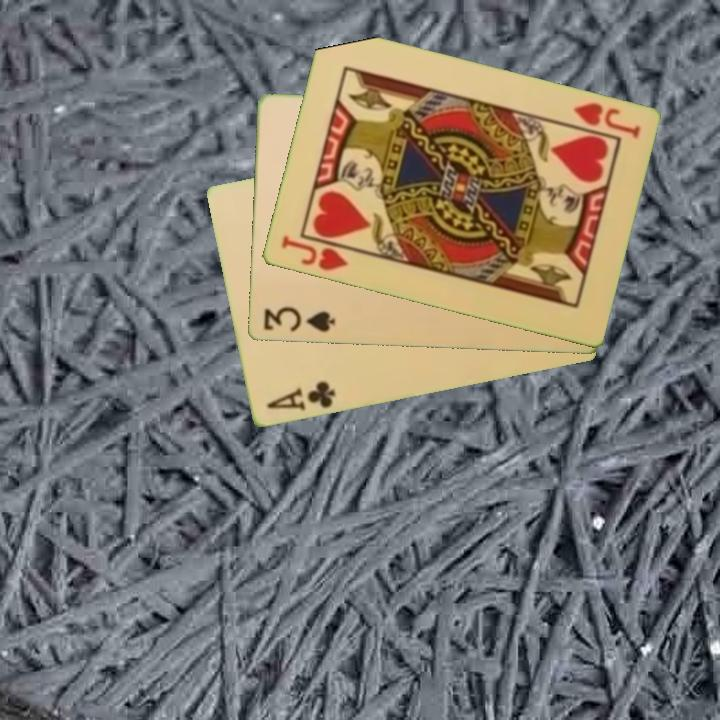3s: (259, 303, 338, 335)
Ac: (263, 378, 338, 415)
Jh: (569, 99, 643, 142), (277, 232, 351, 274)
